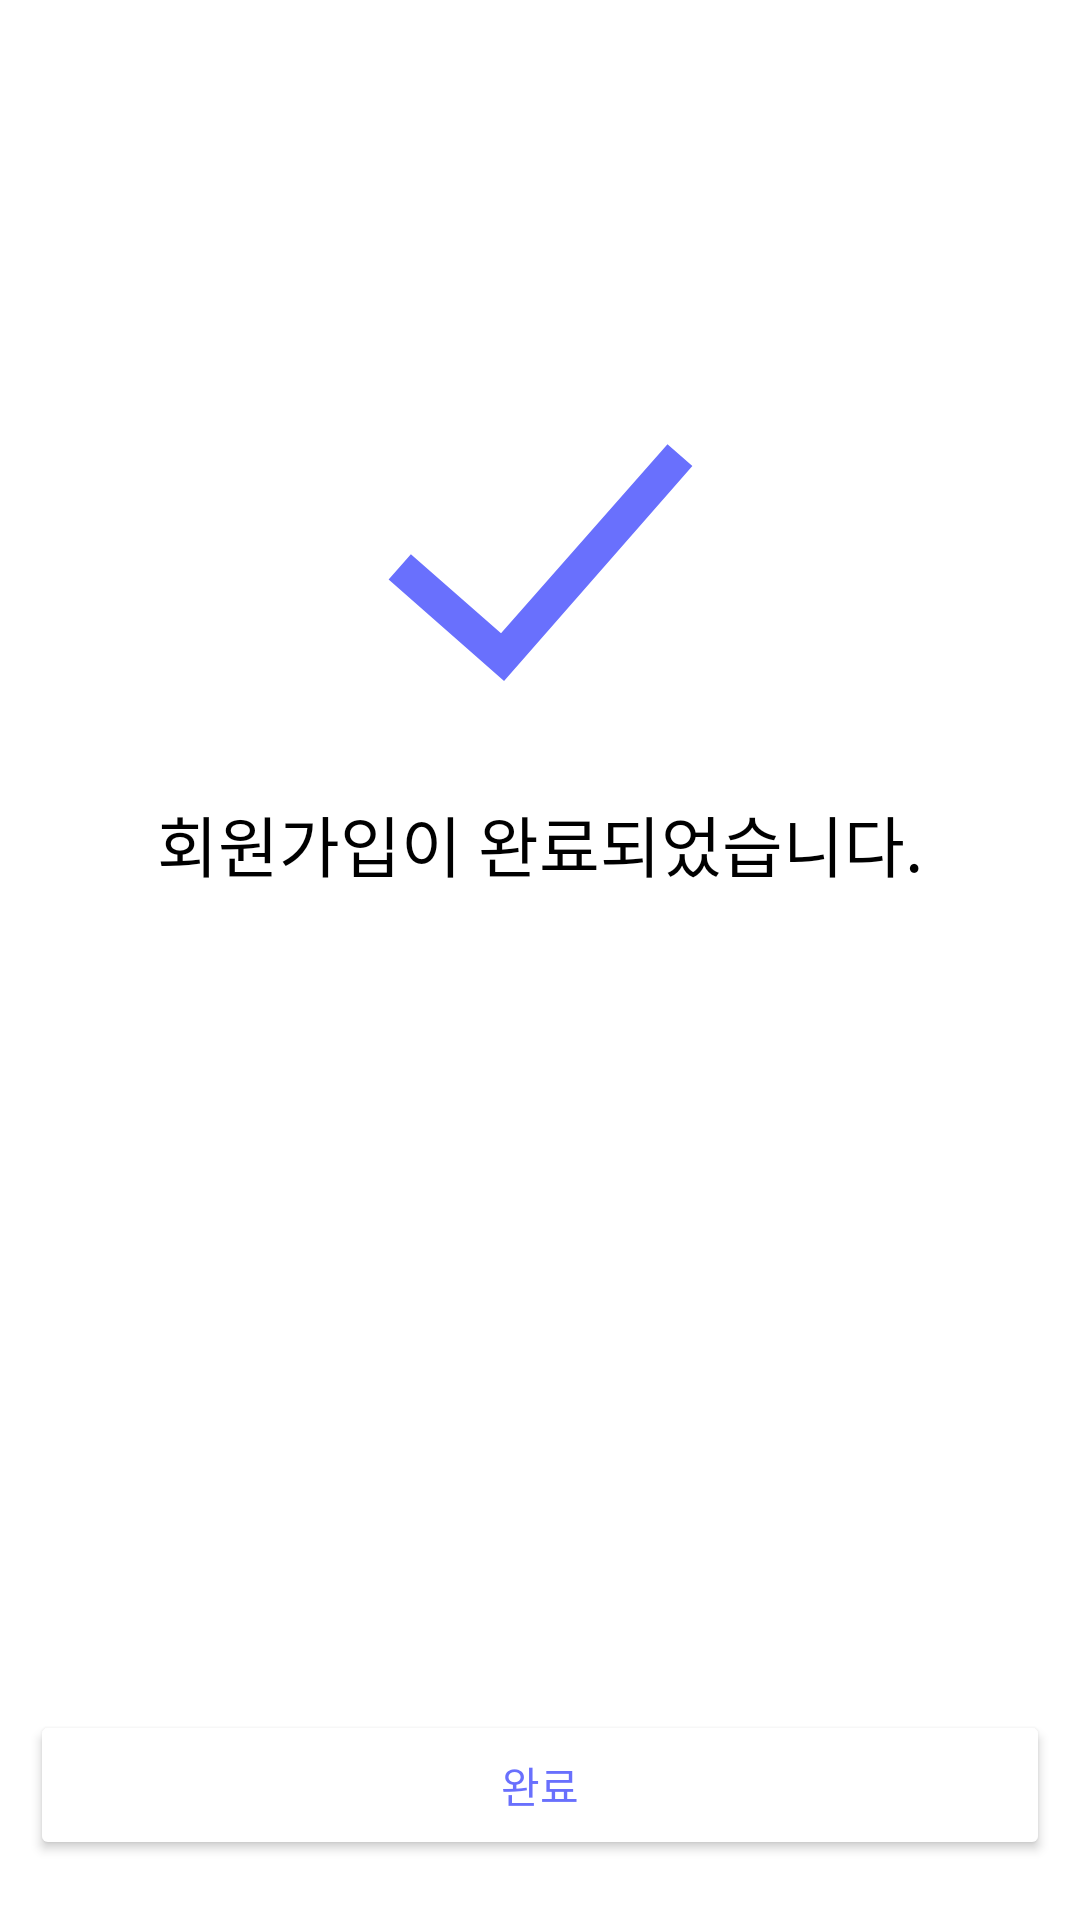

Icon bounding boxes for this 1080x1920 phone screenshot, format bbox(x1, y1, x2, y2):
checkmark: bbox(389, 444, 692, 681)
